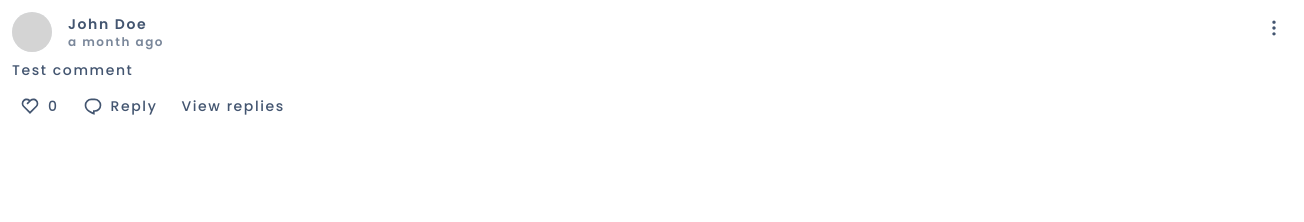
Test: CommentItem › should open the edit input when the edit button is clicked
Click the button with test id "menu-button".
click(1274, 28)  # box [1256,12,1292,44]
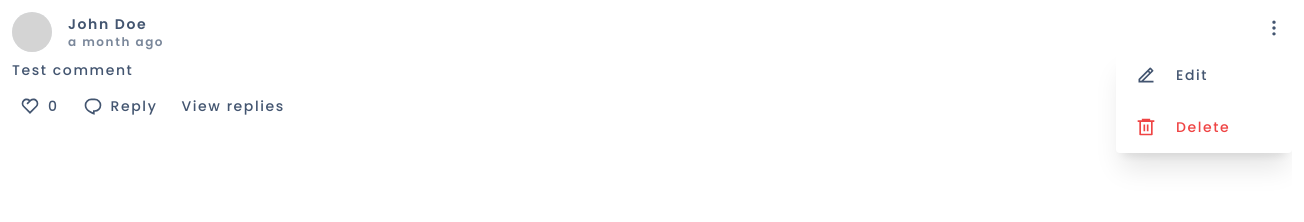
Click the menu item "Edit".
click(1192, 75)  # box [1136,65,1208,85]
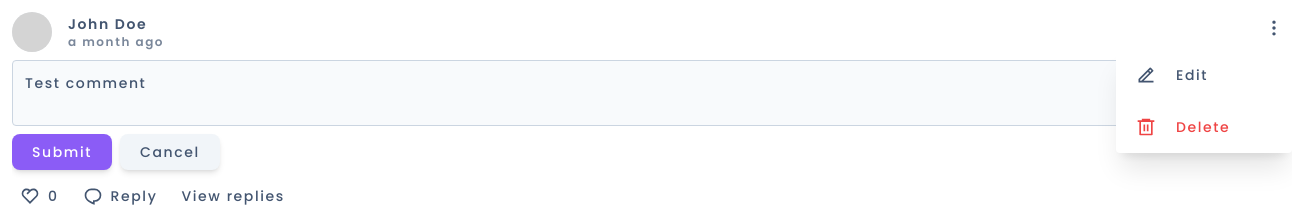
Result: the text box is shown at [12,60,1292,126]
